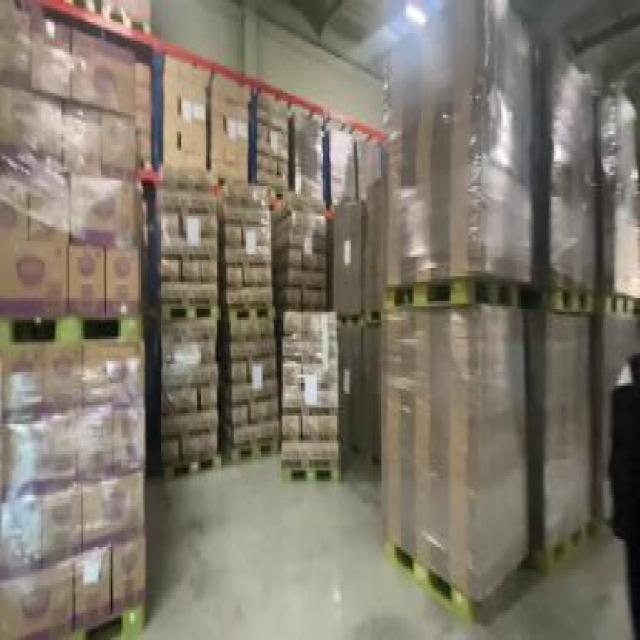box: (2, 2, 149, 624), (382, 287, 532, 610), (385, 11, 529, 298), (155, 167, 223, 481), (529, 38, 602, 301), (531, 290, 597, 580), (218, 175, 280, 468), (329, 189, 386, 476), (280, 304, 342, 484), (597, 298, 638, 542), (594, 90, 638, 306), (269, 188, 328, 326), (156, 49, 216, 181), (254, 85, 295, 213), (209, 71, 249, 186), (288, 107, 324, 208), (323, 120, 359, 205), (355, 137, 383, 208)
person: (603, 301, 637, 634)
